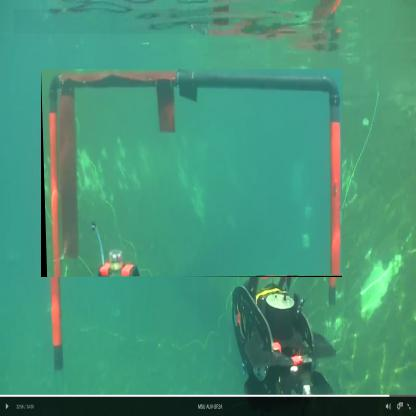gate: (42, 70, 344, 279)
